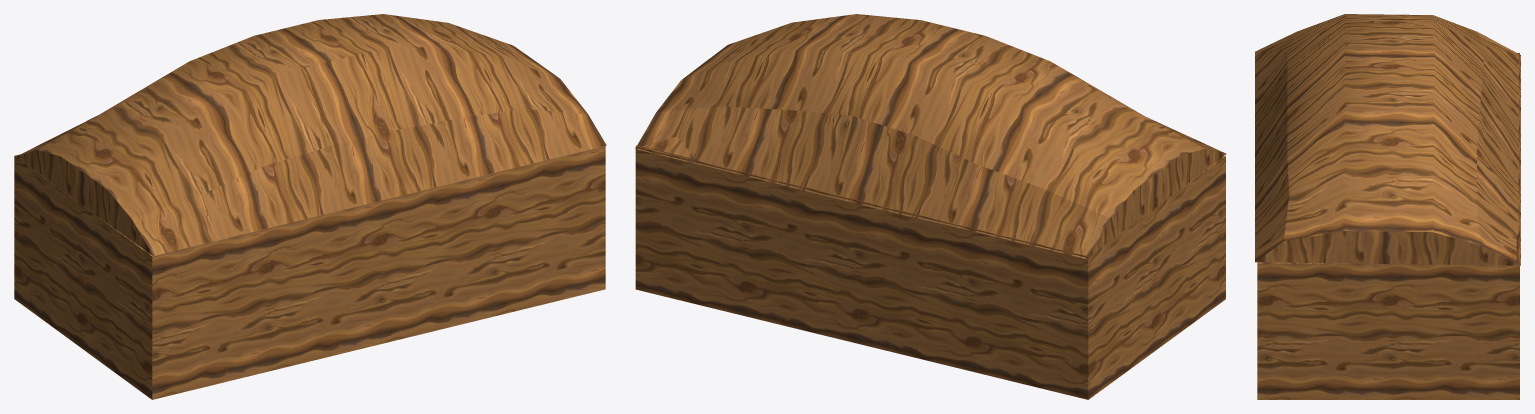
File: chest.FBX
3 renders of one model, left to right at view 1: azimuth 30°, elevation 25°; view 2: azimuth 150°, elevation 25°; view 3: azimuth 270°, elevation 25°, orthographic. The views are drawn at different scales.
Visible parts, largest first — view 1: Box009, Box010; view 2: Box009, Box010; view 3: Box010, Box009.
Part boxes in pixels (bbox=[...]): Box009: bbox=[14, 146, 605, 399]; Box010: bbox=[16, 14, 606, 255]; Box009: bbox=[635, 145, 1225, 399]; Box010: bbox=[635, 14, 1226, 259]; Box010: bbox=[1255, 14, 1520, 265]; Box009: bbox=[1257, 53, 1519, 399].
Bounding box in the file's own units: 2.55 × 1.36 × 1.34.
Materials: 1 (1 with a texture image).
